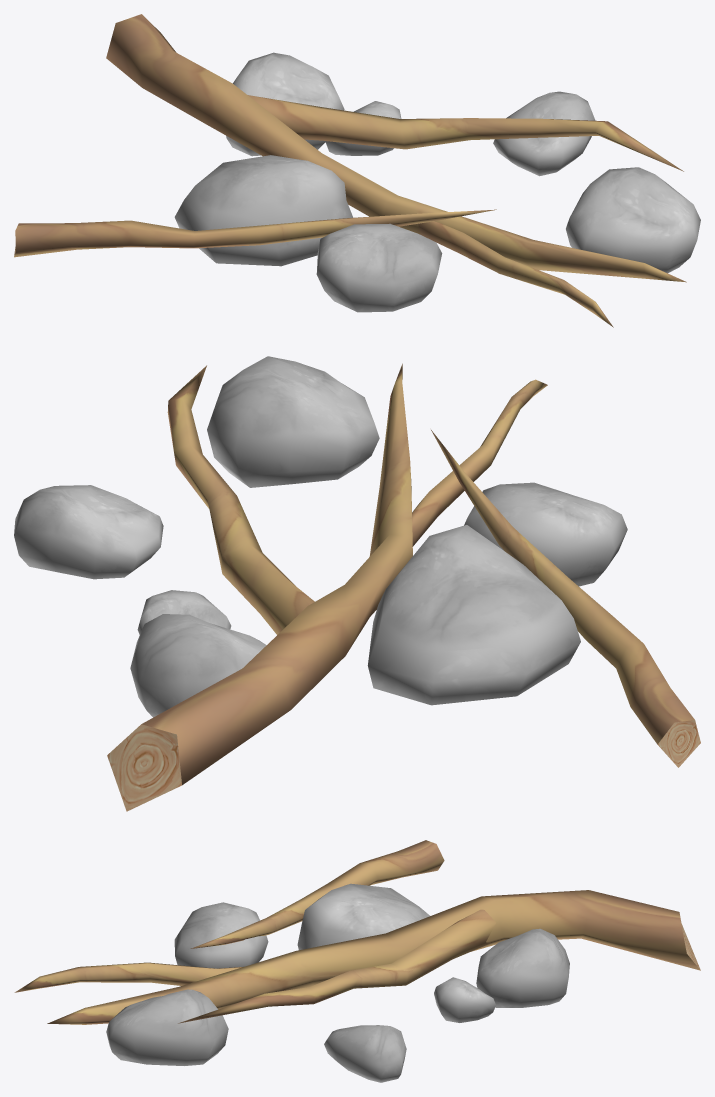
File: SM_ENV_pebbles_ancient_03.fbx
The picture shows the model from 3 angles, top to bottom: view 1: azimuth 30°, elevation 25°; view 2: azimuth 150°, elevation 25°; view 3: azimuth 270°, elevation 25°; orthographic projection. The views are drawn at different scales.
Visible parts, largest first — view 1: SM_ENV_pebbles_ancient_03_LOD0; view 2: SM_ENV_pebbles_ancient_03_LOD0; view 3: SM_ENV_pebbles_ancient_03_LOD0.
Part boxes in pixels (bbox=[...]): SM_ENV_pebbles_ancient_03_LOD0: bbox=[14, 14, 700, 327]; SM_ENV_pebbles_ancient_03_LOD0: bbox=[14, 356, 700, 811]; SM_ENV_pebbles_ancient_03_LOD0: bbox=[14, 840, 700, 1082].
Bounding box in the file's own units: 58.77 × 9.76 × 74.54.
